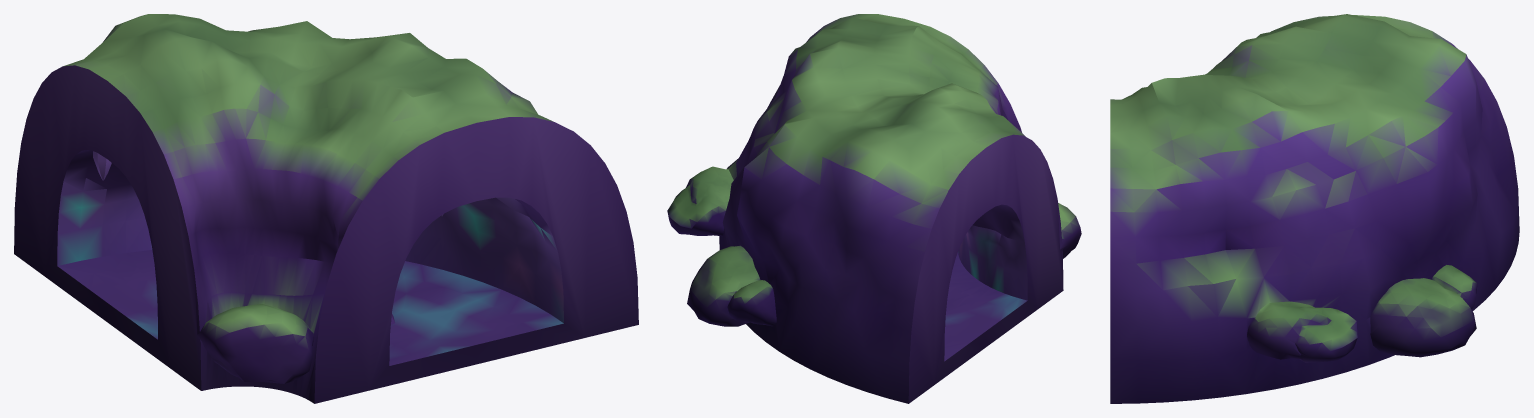
File: hollow_cave_curve.glb
The picture shows the model from 3 angles, left to right: view 1: azimuth 30°, elevation 25°; view 2: azimuth 150°, elevation 25°; view 3: azimuth 270°, elevation 25°; orthographic projection. The views are drawn at different scales.
Parts seen in each view (by area): view 1: hollow_cave_curve; view 2: hollow_cave_curve; view 3: hollow_cave_curve.
Part boxes in pixels (bbox=[...]): hollow_cave_curve: bbox=[14, 14, 638, 403]; hollow_cave_curve: bbox=[667, 14, 1081, 403]; hollow_cave_curve: bbox=[1110, 14, 1519, 403].
Size of the model in its own units: 12.93 by 8.32 by 12.7.
